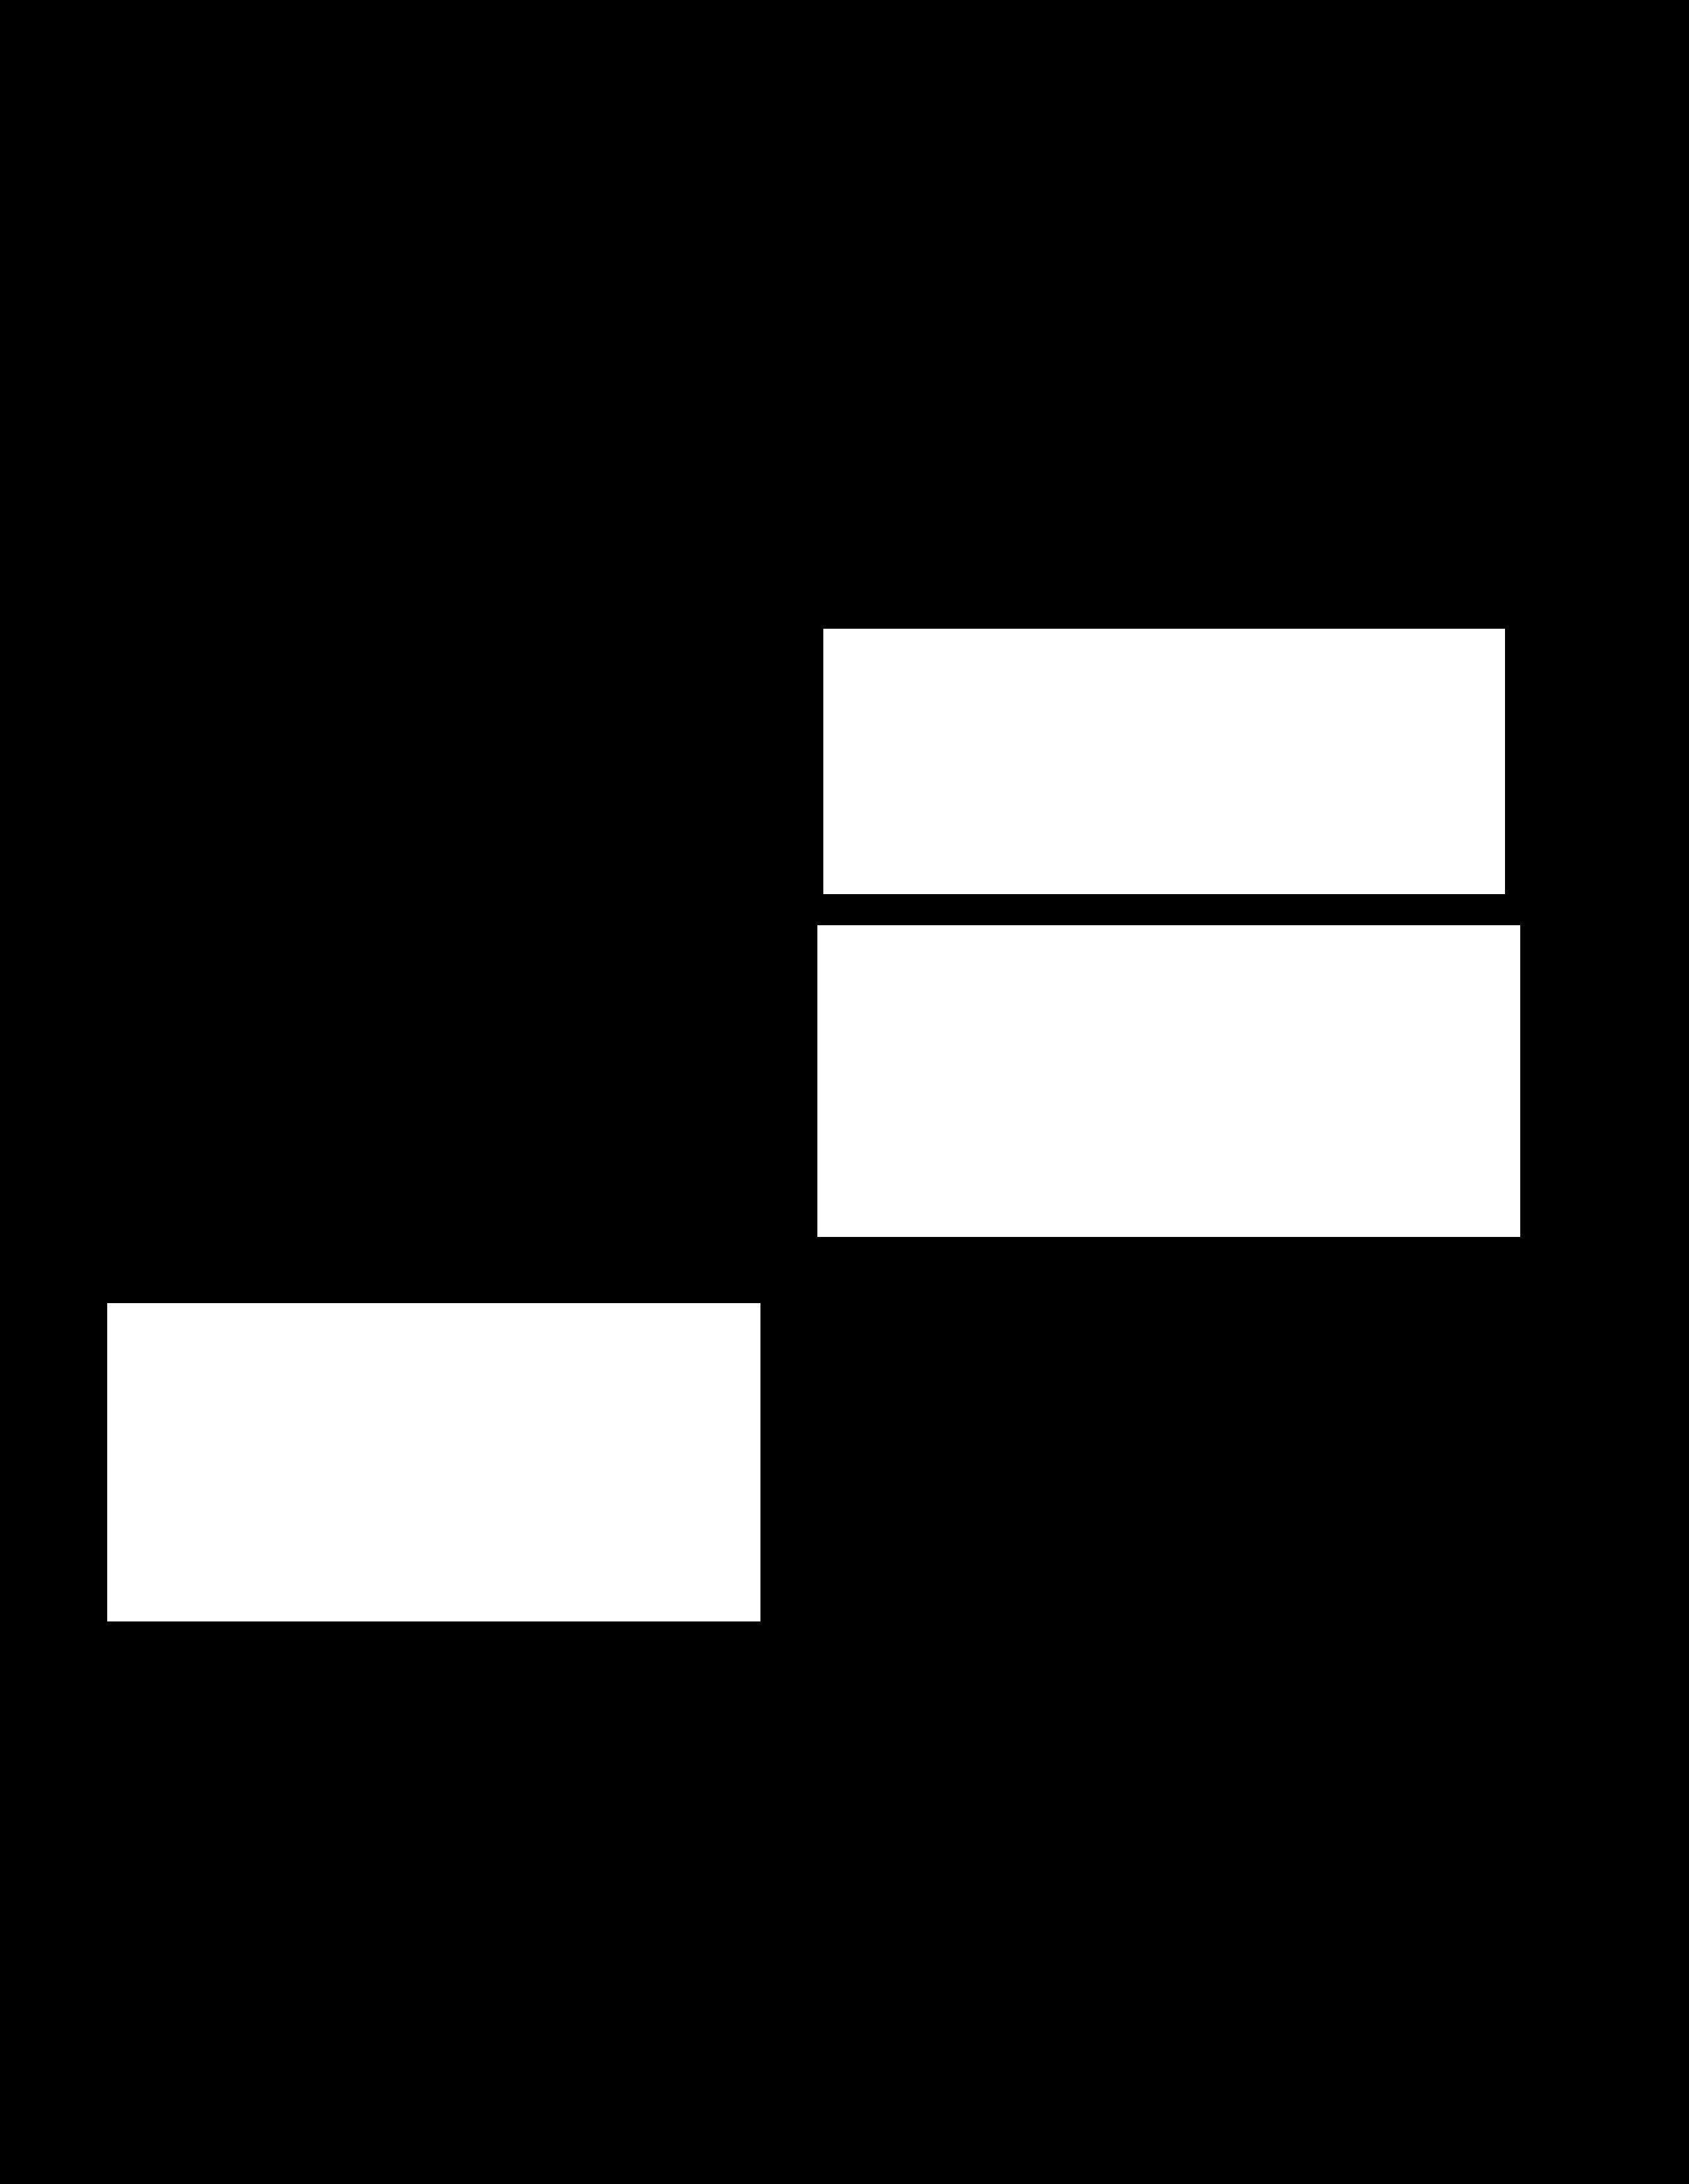table: (817, 925, 1519, 1236), (106, 1303, 760, 1620), (824, 629, 1505, 893)
